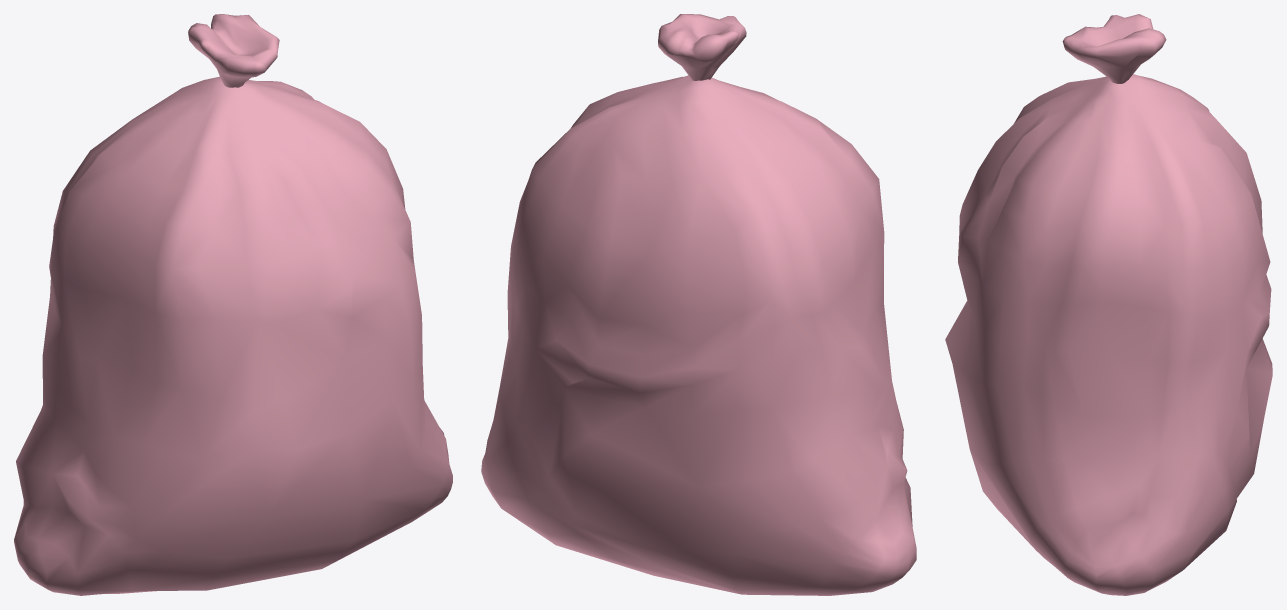
File: GarbageBag.fbx
The picture shows the model from 3 angles, left to right: view 1: azimuth 30°, elevation 25°; view 2: azimuth 150°, elevation 25°; view 3: azimuth 270°, elevation 25°; orthographic projection. The views are drawn at different scales.
Parts seen in each view (by area): view 1: GarbageBag; view 2: GarbageBag; view 3: GarbageBag.
Part boxes in pixels (box(x1,y1,x2,y2)): GarbageBag: box(14, 14, 452, 595); GarbageBag: box(481, 14, 916, 595); GarbageBag: box(945, 14, 1272, 595).
Size of the model in its own units: 75.18 by 92.09 by 54.98.
